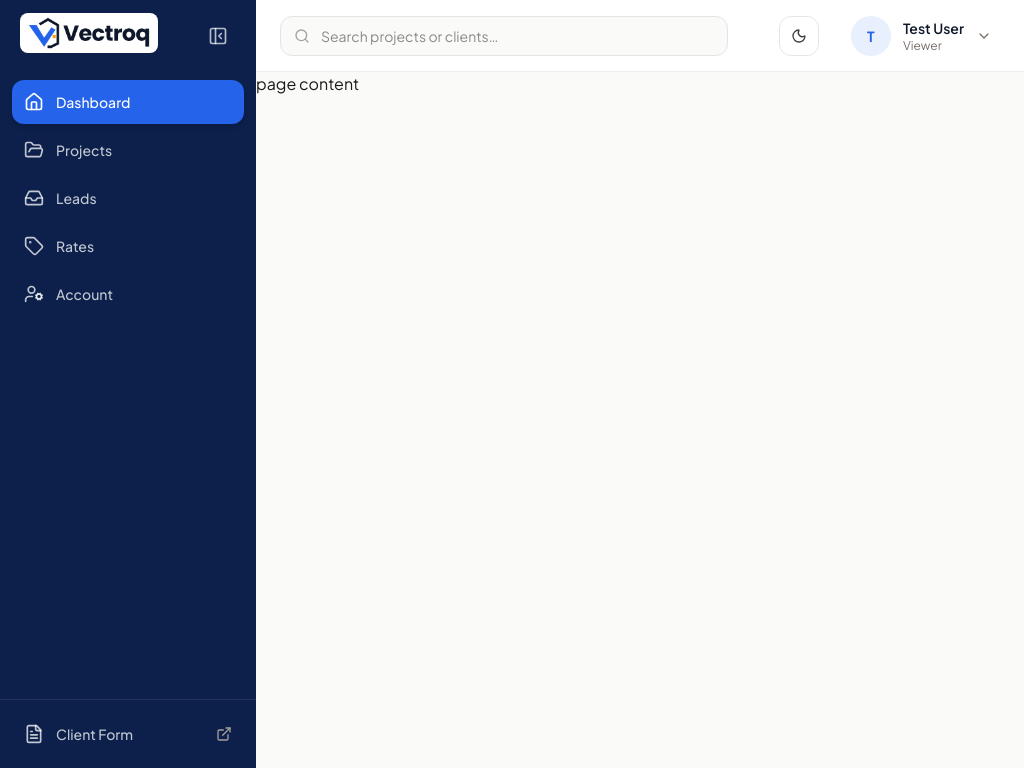
OfficeShell › only offers company settings in the menu to owners
Click the button "T Test User Viewer": coordinates (921, 36) [843,10,1000,62]
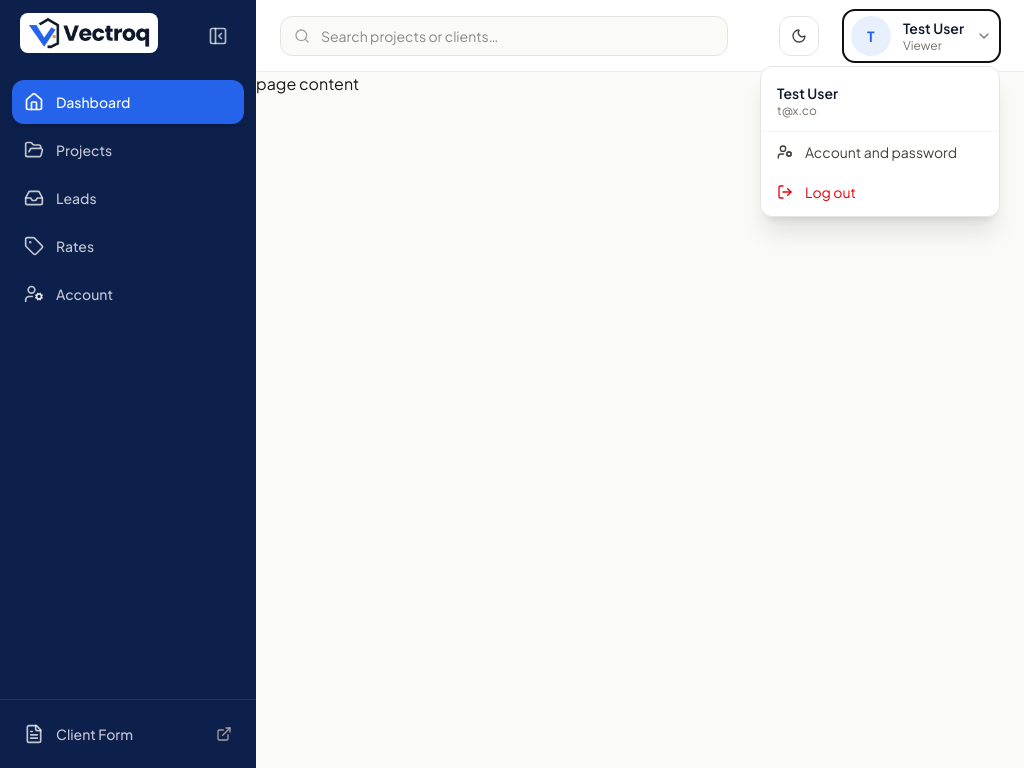
Expected: the menu item "Account and password" is shown, [777,142,957,160]
